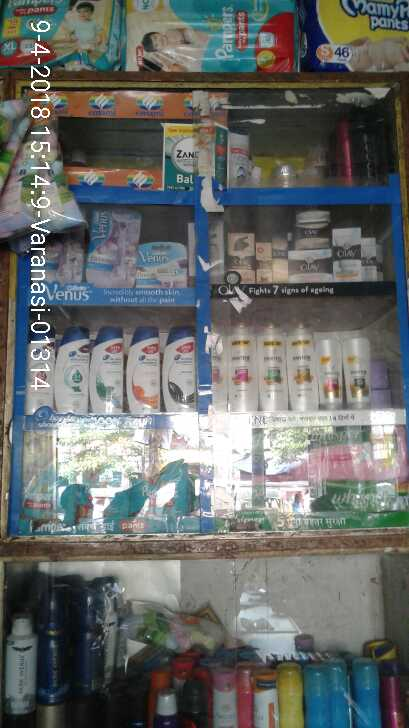venus: (84, 209, 135, 284), (34, 234, 85, 284), (137, 242, 188, 288)
